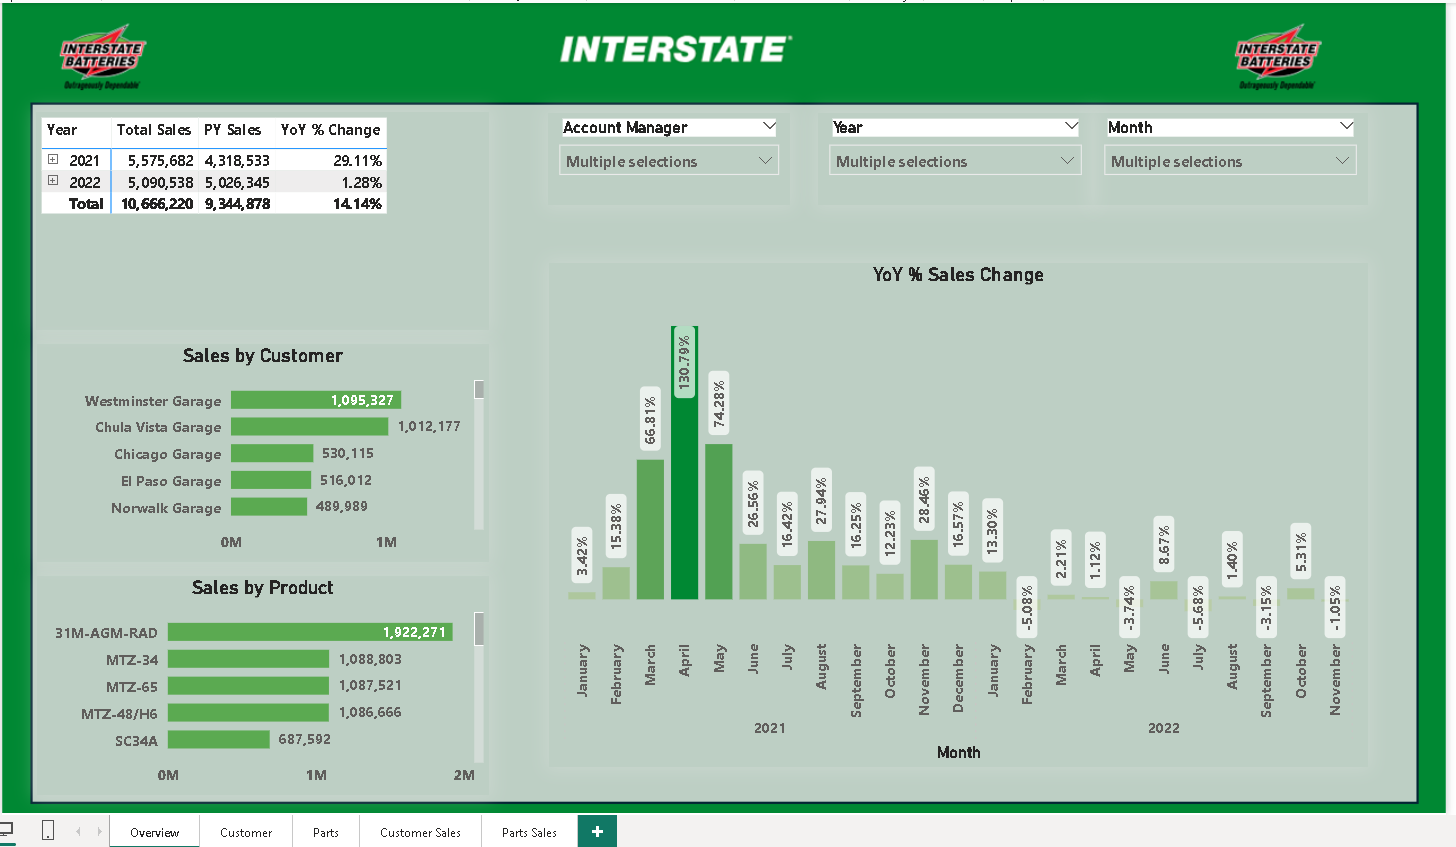

The page's visual inventory and layout, read from the dashboard file:
{"tool":"powerbi","page":{"name":"Overview","canvas":[1280,720],"ordinal":0},"visuals":[{"type":"pivotTable","fields":{"Rows":["Data.Date.Variation.Date Hierarchy.Year","Data.Date.Variation.Date Hierarchy.Month"],"Values":["Data.TotalSales","Customer.PreviousYearSales","Customer.YoY%Change"]},"box":[30.2,96.3,401.7,192.6],"z":0},{"type":"barChart","title":"Sales by Customer","fields":{"Category":["Customer.Customer_Name","Customer.Account_Manager"],"Y":["Data.TotalSales"]},"box":[31.1,302.5,400.7,192.6],"z":1000},{"type":"barChart","title":"Sales by Product","fields":{"Category":["Parts.Product"],"Y":["Data.TotalSales"]},"box":[31.1,507.7,400.7,193.6],"z":2000},{"type":"lineClusteredColumnComboChart","title":"YoY % Sales Change","fields":{"Y":["Customer.YoY%Change"],"Category":["Data.Date.Variation.Date Hierarchy.Year","Data.Date.Variation.Date Hierarchy.Month"]},"box":[484.8,230.5,726.4,446.6],"z":3000},{"type":"slicer","fields":{"Values":["Customer.Account_Manager"]},"box":[484.1,97.5,215.5,81.6],"z":4000},{"type":"slicer","fields":{"Values":["Data.Date.Variation.Date Hierarchy.Year"]},"box":[723.5,97.5,243.8,81.6],"z":5000},{"type":"slicer","fields":{"Values":["Data.Date.Variation.Date Hierarchy.Month"]},"box":[967.4,97.5,243.8,81.6],"z":6000}]}

Visuals, with their boxes on the page's 1280x720 design canvas (x1, y1, x2, y2). These are canvas units, not pixel positions in the 1456x847 screenshot, which may show the page scaled, cropped or inside an application window:
pivotTable - Data.Date.Variation.Date Hierarchy.Year x Data.Date.Variation.Date Hierarchy.Month: 30,96,432,289
"Sales by Customer" barChart: 31,302,432,495
"Sales by Product" barChart: 31,508,432,701
"YoY % Sales Change" lineClusteredColumnComboChart: 485,230,1211,677
slicer - Customer.Account_Manager: 484,98,700,179
slicer - Data.Date.Variation.Date Hierarchy.Year: 724,98,967,179
slicer - Data.Date.Variation.Date Hierarchy.Month: 967,98,1211,179
